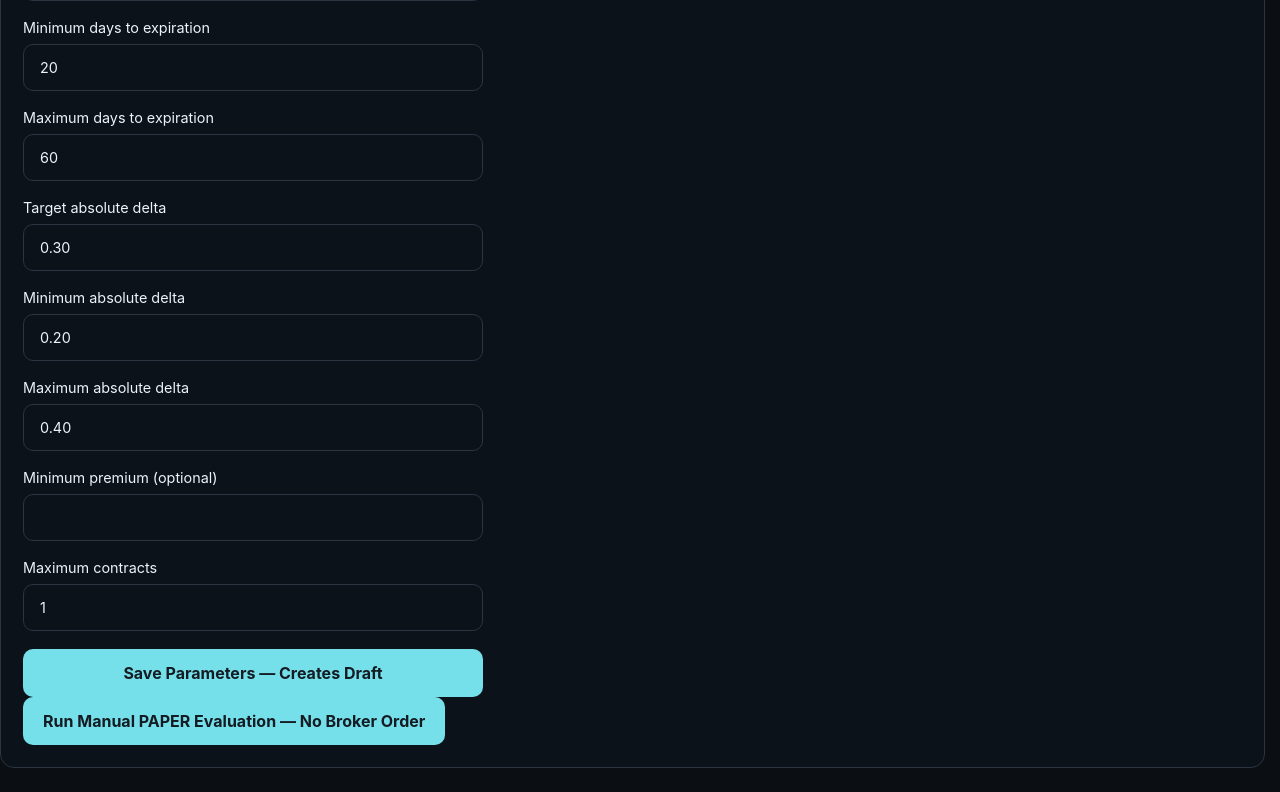
StrategyEvaluationControls › runs only an explicit non-live evaluation
The image size is (1280, 792).
(page scrolled)
Click the button "Run Manual PAPER Evaluation — No Broker Order" at (234, 721), box left=23, top=697, right=445, bottom=745
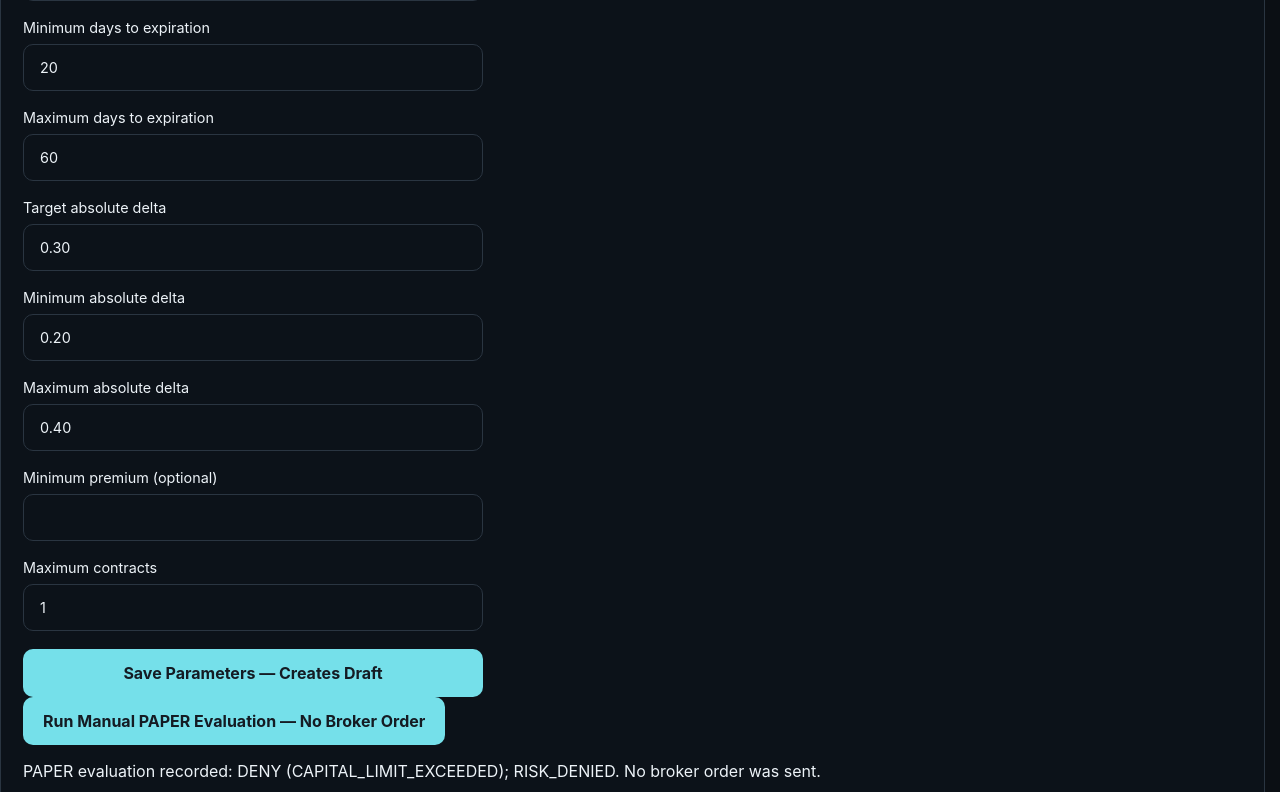
Now the text "no broker order was sent" is shown, box left=23, top=761, right=821, bottom=781
